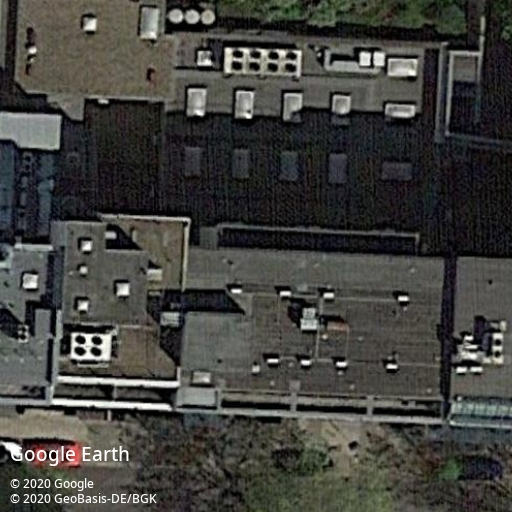Chiller: (223, 46, 303, 77), (69, 332, 112, 361), (492, 332, 504, 362), (17, 324, 29, 343)
